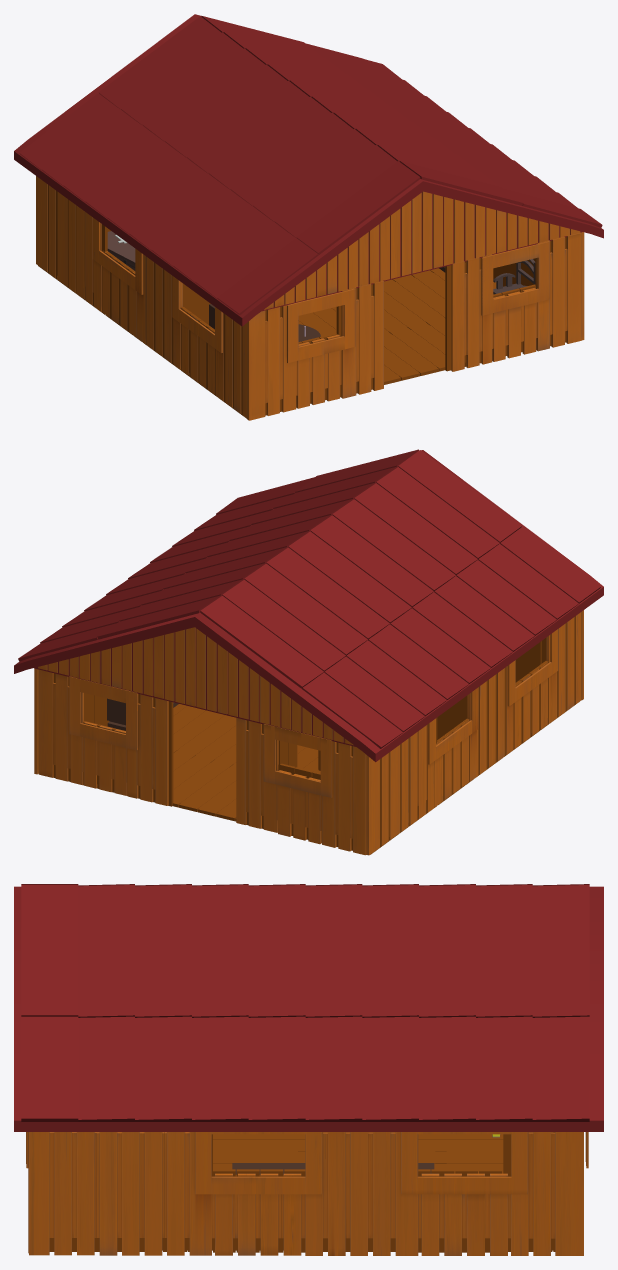
The model's file is HouseComplete.fbx.
3 renders of one model, top to bottom at view 1: azimuth 30°, elevation 25°; view 2: azimuth 150°, elevation 25°; view 3: azimuth 270°, elevation 25°, orthographic. The views are drawn at different scales.
Parts seen in each view (by area): view 1: Cube.002; view 2: Cube.002; view 3: Cube.002.
Part boxes in pixels (left/top/right/bottom): Cube.002: left=14, top=14, right=603, bottom=420; Cube.002: left=14, top=449, right=603, bottom=855; Cube.002: left=14, top=884, right=603, bottom=1255.
Bounding box in the file's own units: 1032 × 560 × 1122.
18 materials, 1 textured.
